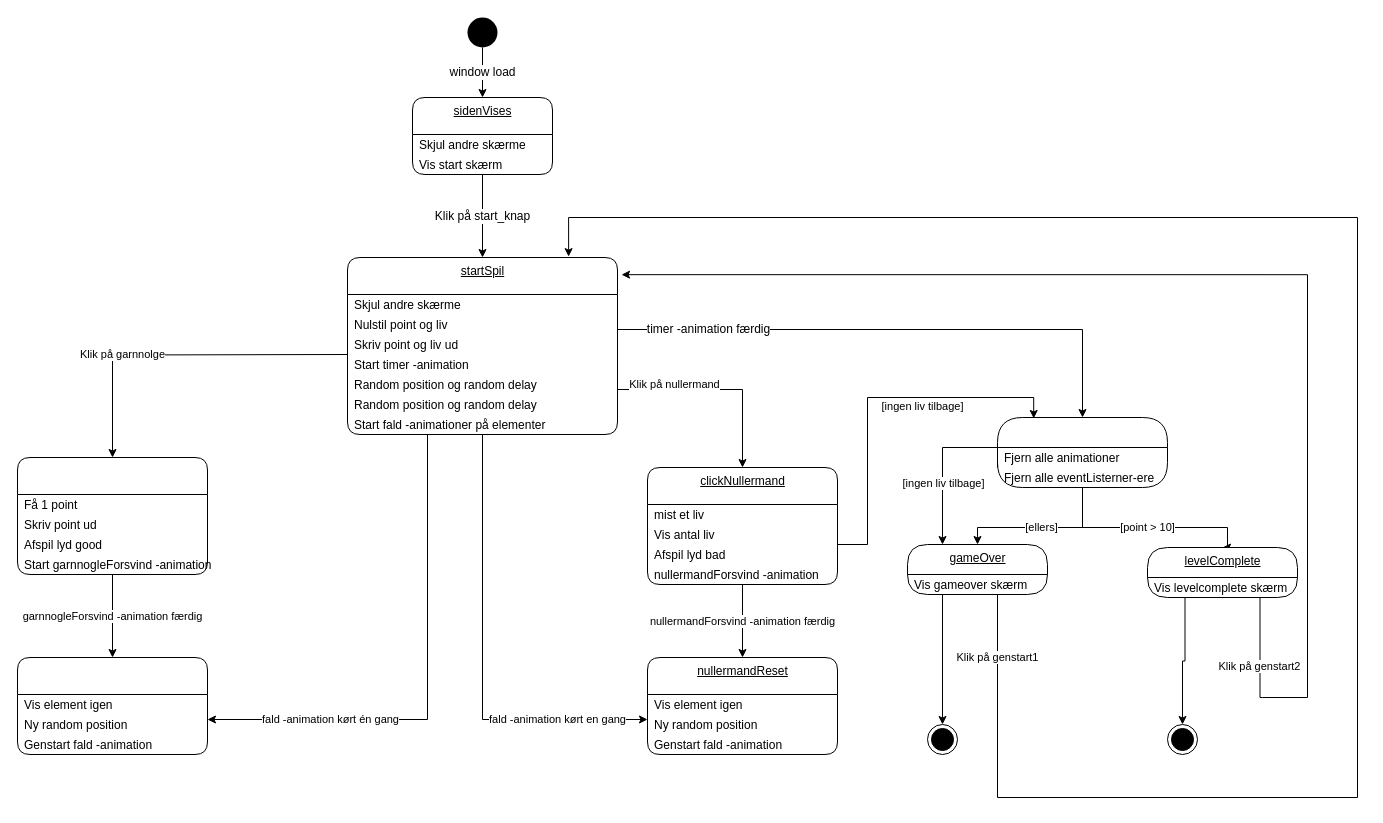
This 1383x823 diagram has some shape labels left out. The shapes that lost their labels are listed below. From the top down, each one's box as (x1, y1, x2, y2) in pixels, then its label:
(996, 416, 1168, 488): stopSpillet
(16, 456, 208, 574): clickGarnnogle
(16, 656, 208, 754): garnnogleReset
